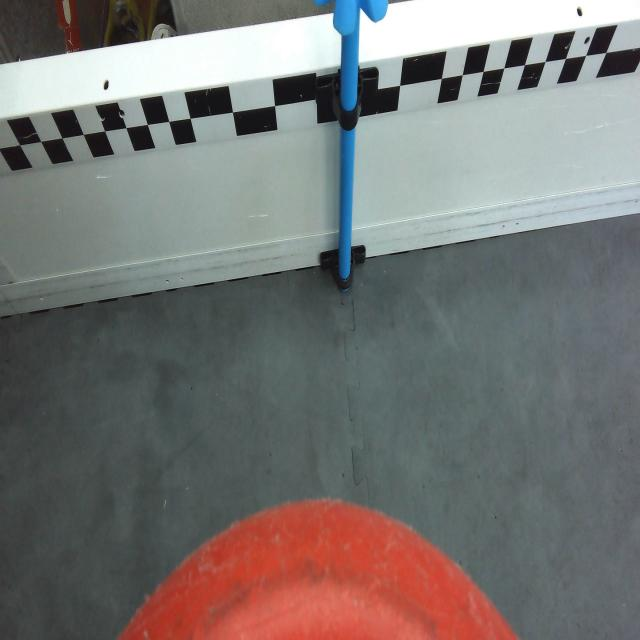zblue-Stake-Head: (312, 0, 391, 34)
